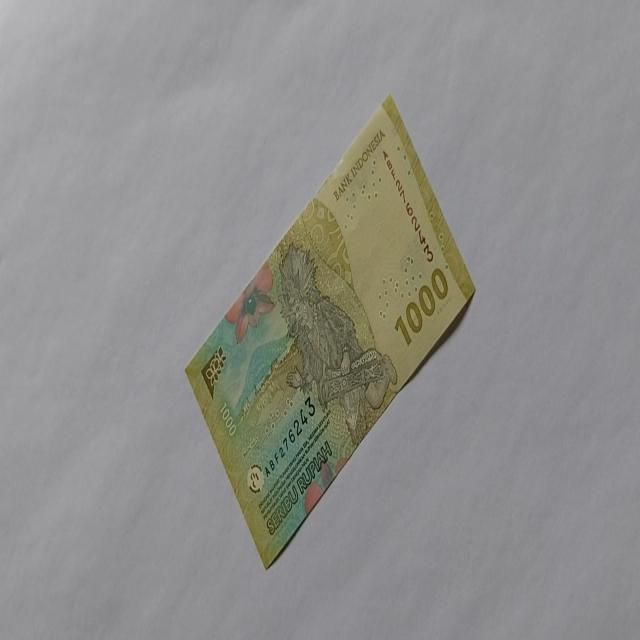seribu rupiah kertas: (182, 91, 476, 570)
